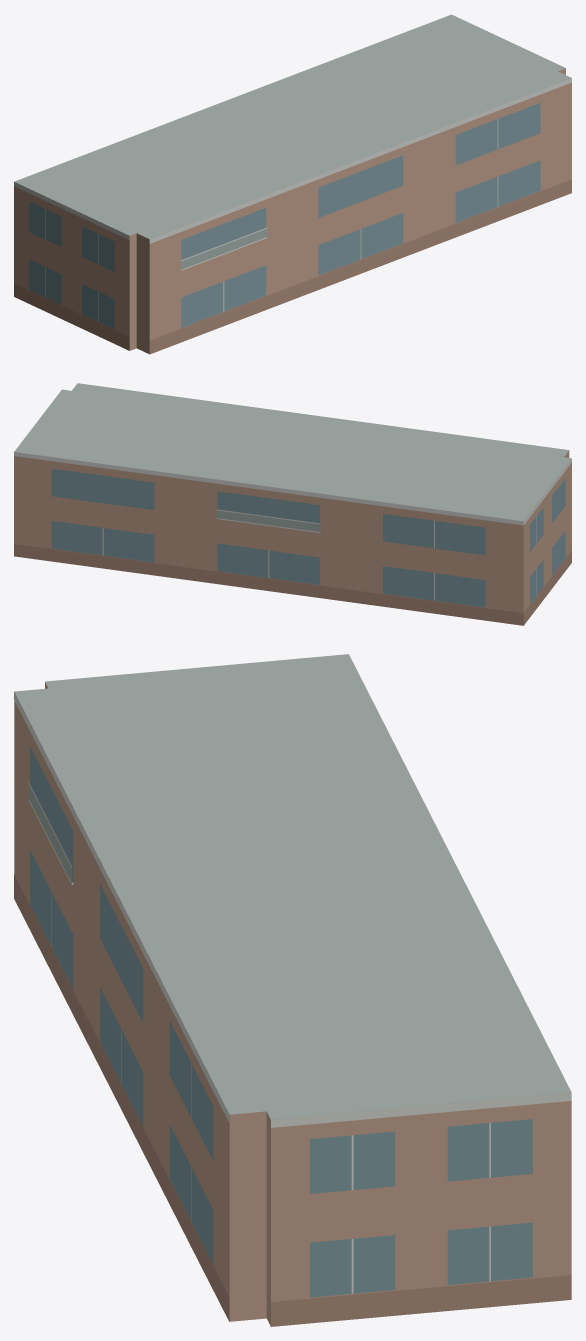
The model's file is survey-upis-32906372.glb.
3 renders of one model, top to bottom at view 1: azimuth 30°, elevation 25°; view 2: azimuth 150°, elevation 25°; view 3: azimuth 270°, elevation 25°, orthographic. The views are drawn at different scales.
Visible parts, largest first — view 1: survey-upis-32906372.tmp; view 2: survey-upis-32906372.tmp; view 3: survey-upis-32906372.tmp.
Part boxes in pixels (x1,y1,x2,y2): survey-upis-32906372.tmp: [14, 14, 571, 354]; survey-upis-32906372.tmp: [14, 383, 571, 625]; survey-upis-32906372.tmp: [14, 654, 571, 1326].
Bounding box in the file's own units: 29.42 × 6.1 × 14.89.
